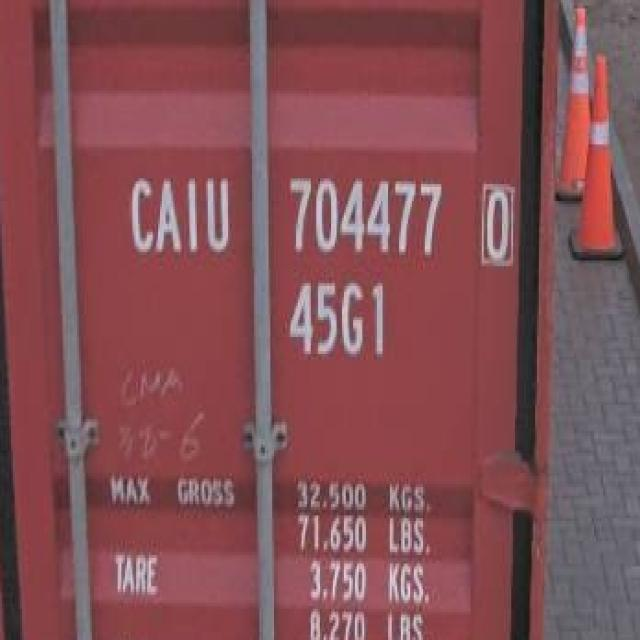dv: (475, 178, 519, 273)
owner: (124, 170, 235, 263)
serial: (283, 168, 447, 266)
size: (284, 276, 398, 362)
